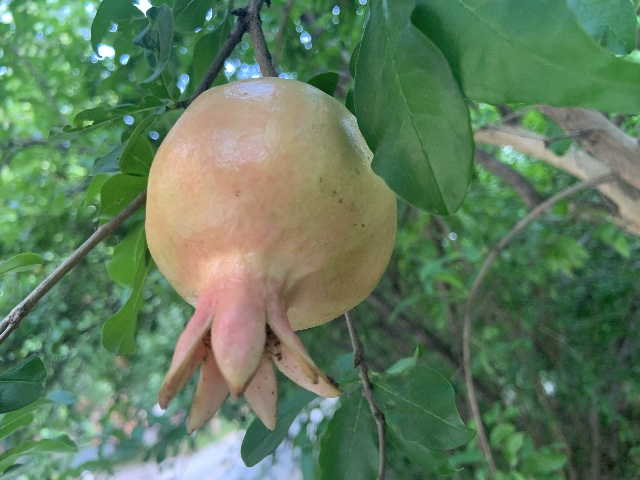mid-growth: (143, 76, 396, 434)
